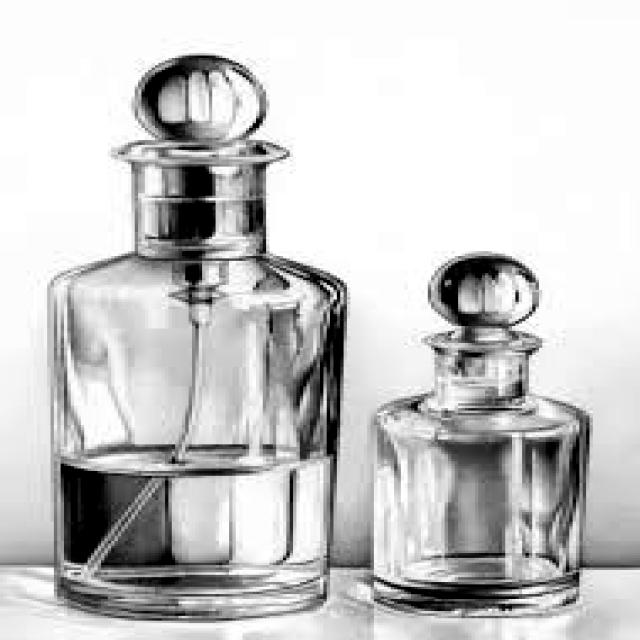Glass: (43, 136, 349, 624), (369, 323, 593, 617)
